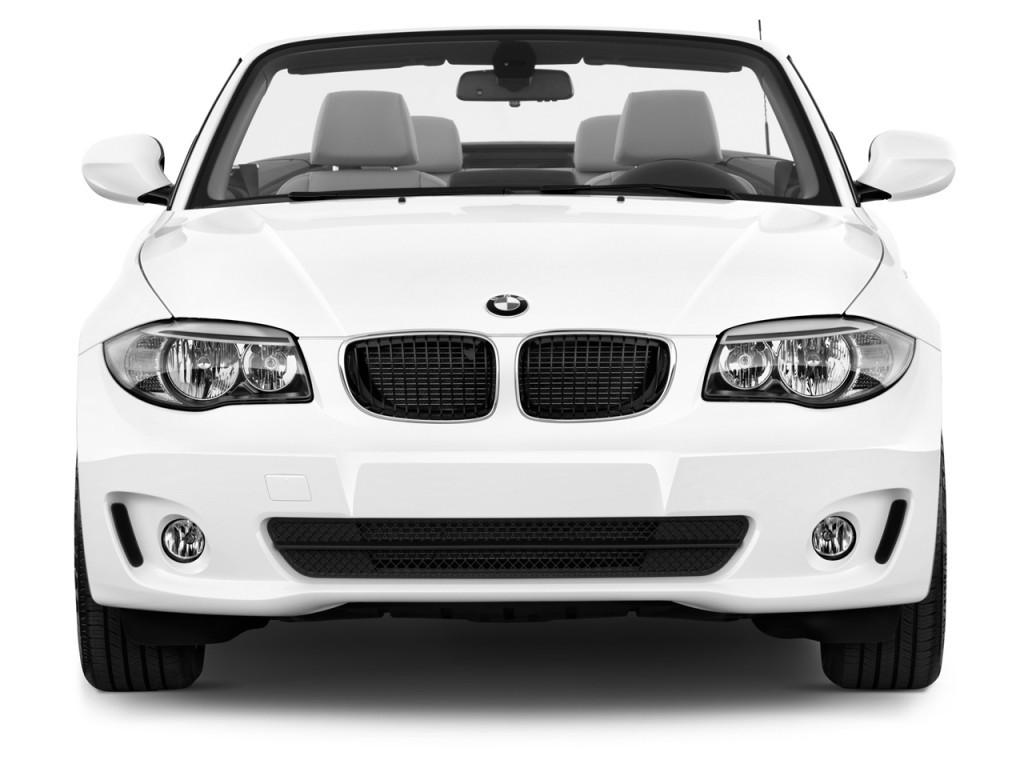car: (72, 30, 949, 688)
